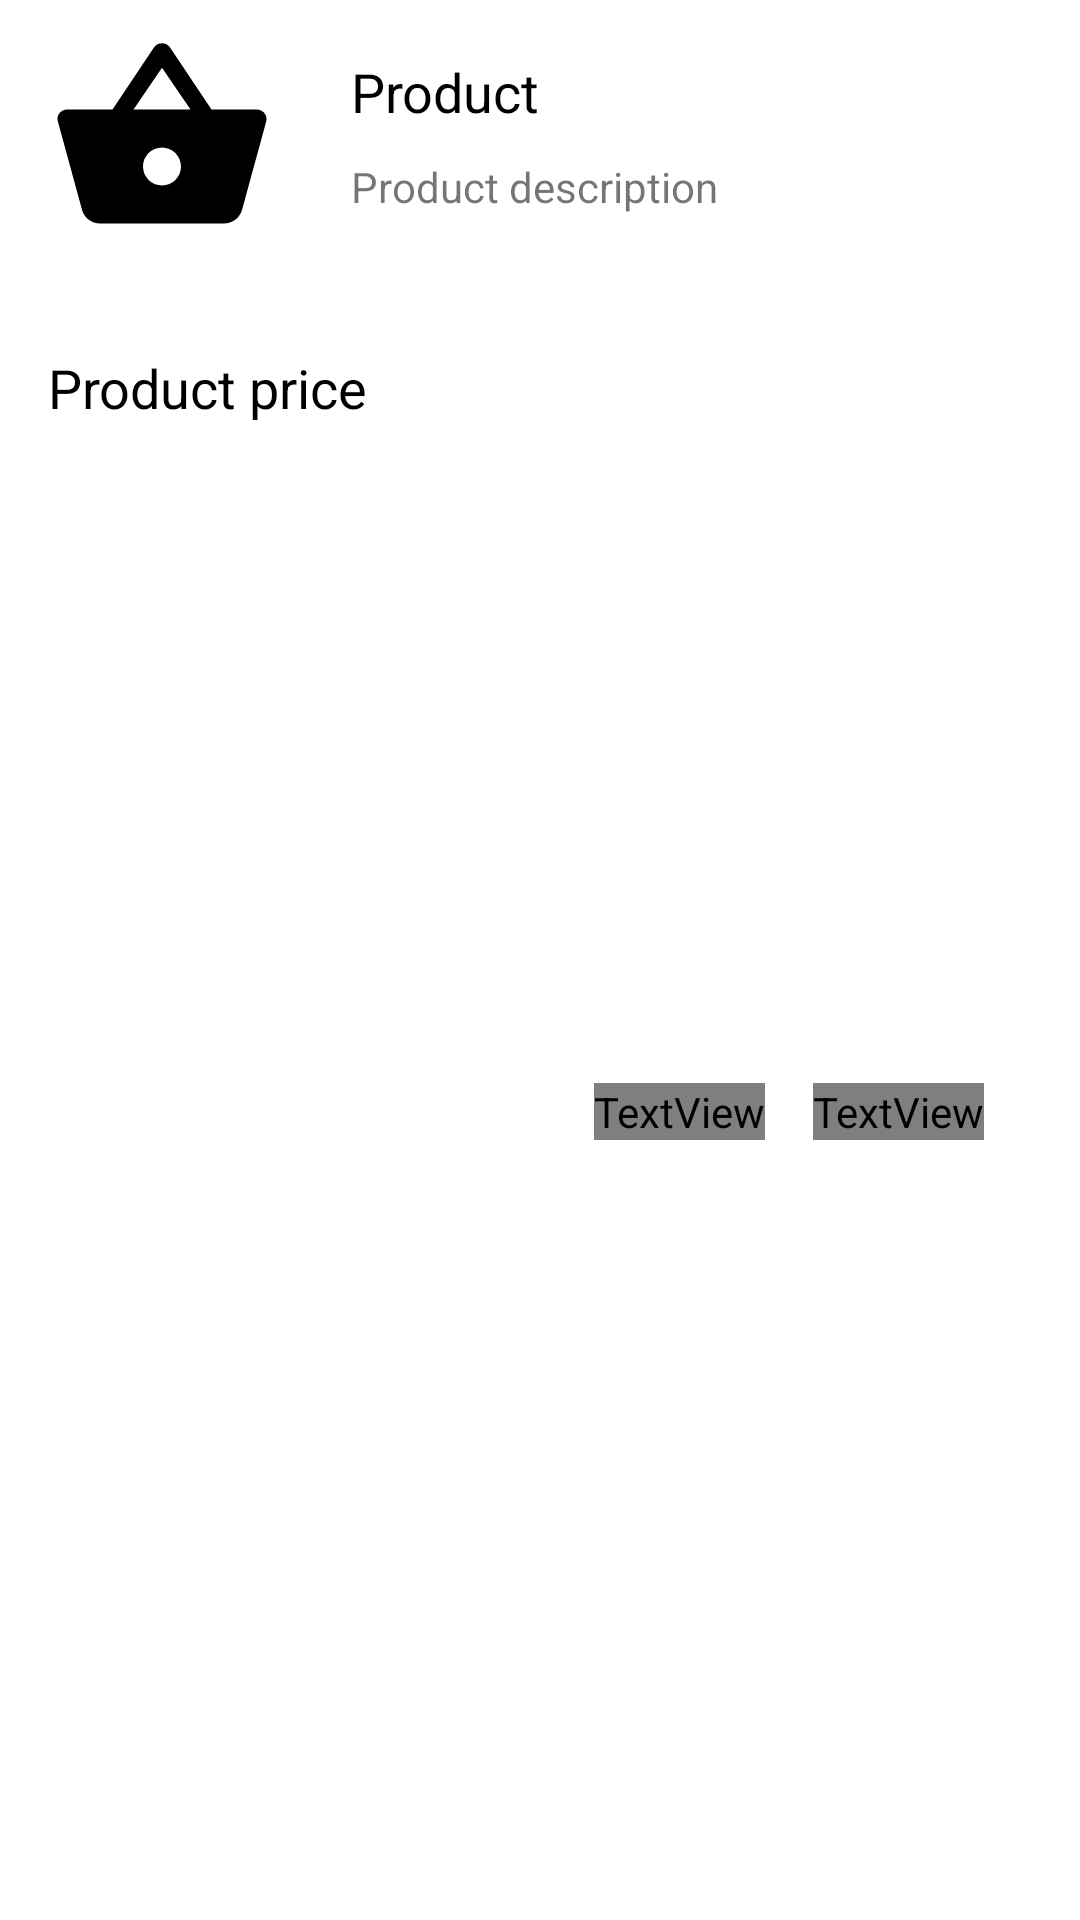

Named icons in this screenshot (1080 x 1920) and their centers, (x=x, y=y):
shopping basket: (x=162, y=133)
